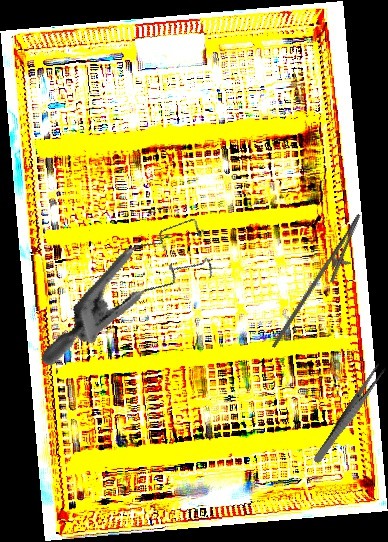Dressing Forceps: (311, 362, 388, 466)
Needle Holder: (271, 205, 372, 362)
Speculum: (40, 185, 229, 408)
